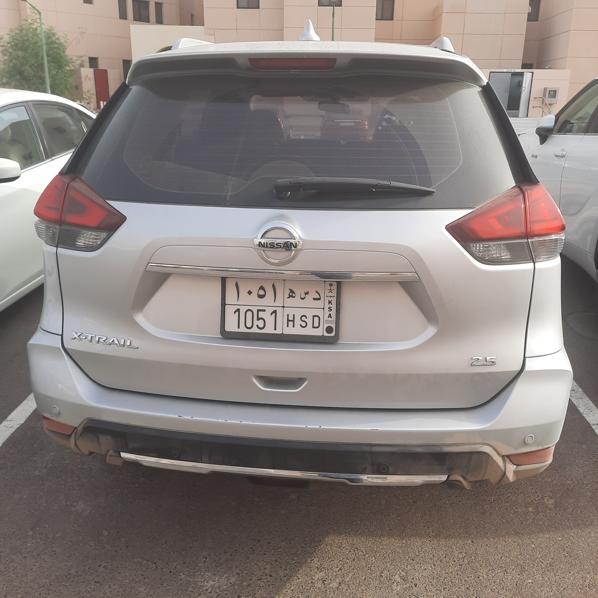numberplate: (224, 275, 339, 338)
